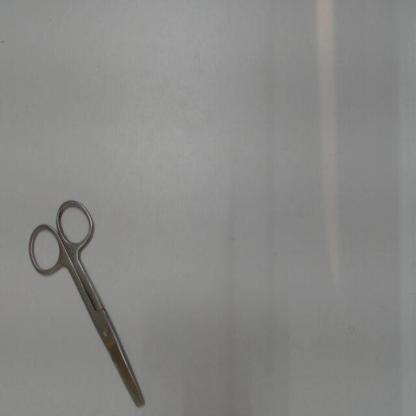Dressing Scissors: (18, 188, 154, 414)
